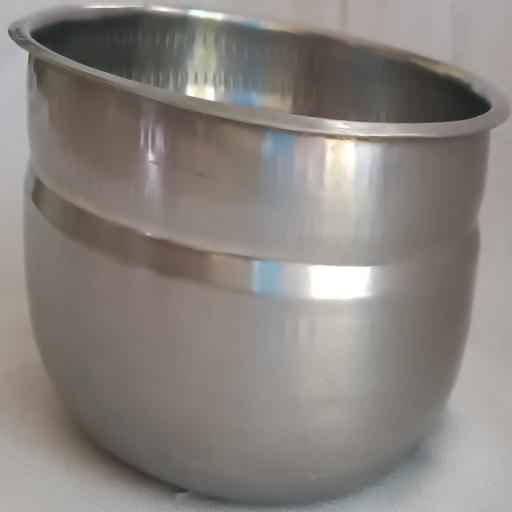vessel: (10, 6, 508, 502)
